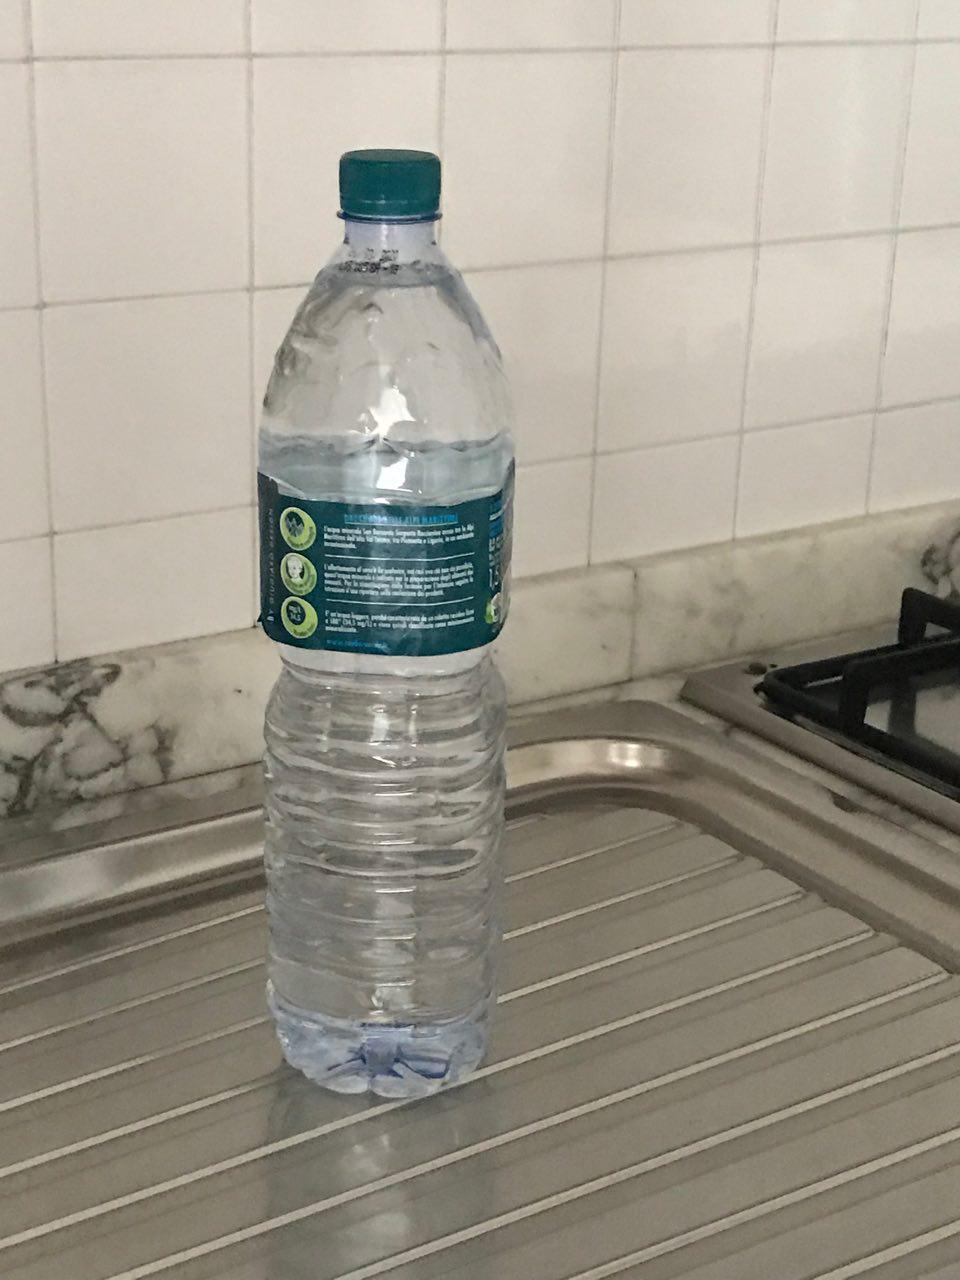san_bernardo: (256, 148, 517, 1100)
